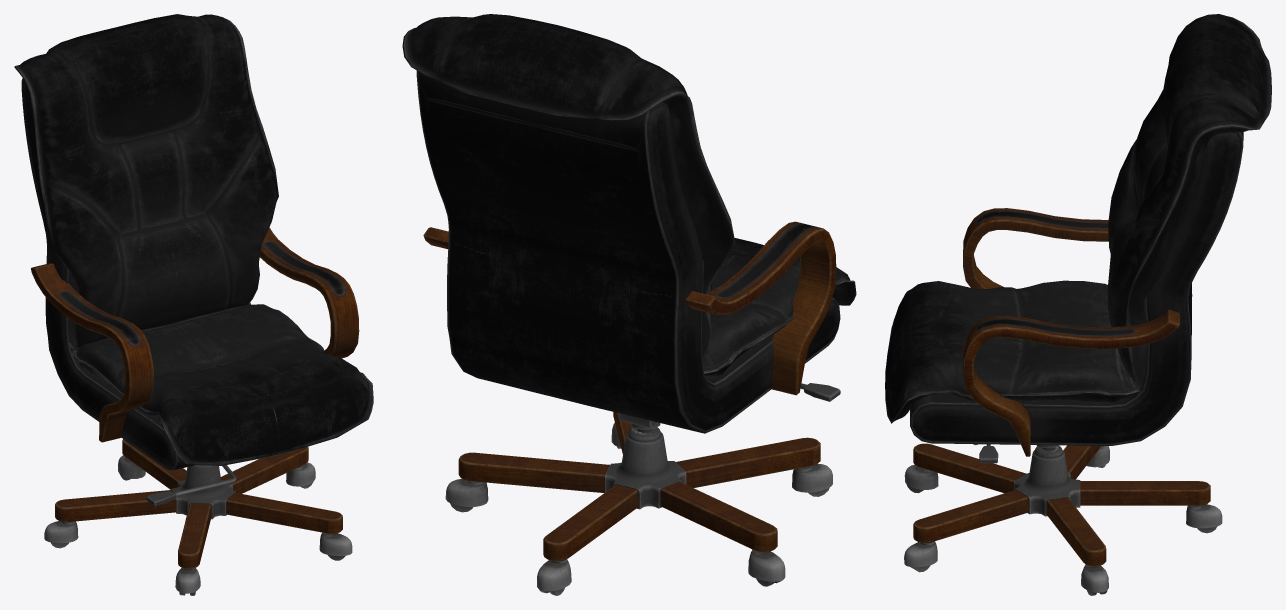
File: executive_office_chair.fbx
The picture shows the model from 3 angles, left to right: view 1: azimuth 30°, elevation 25°; view 2: azimuth 150°, elevation 25°; view 3: azimuth 270°, elevation 25°; orthographic projection. The views are drawn at different scales.
Parts seen in each view (by area): view 1: Executive_Office_Chair; view 2: Executive_Office_Chair; view 3: Executive_Office_Chair.
Part boxes in pixels (<box>): Executive_Office_Chair: <box>14,14,373,595</box>; Executive_Office_Chair: <box>402,14,856,595</box>; Executive_Office_Chair: <box>885,14,1271,595</box>.
Bounding box in the file's own units: 71.69 × 115 × 83.21.
1 material, 1 textured.
